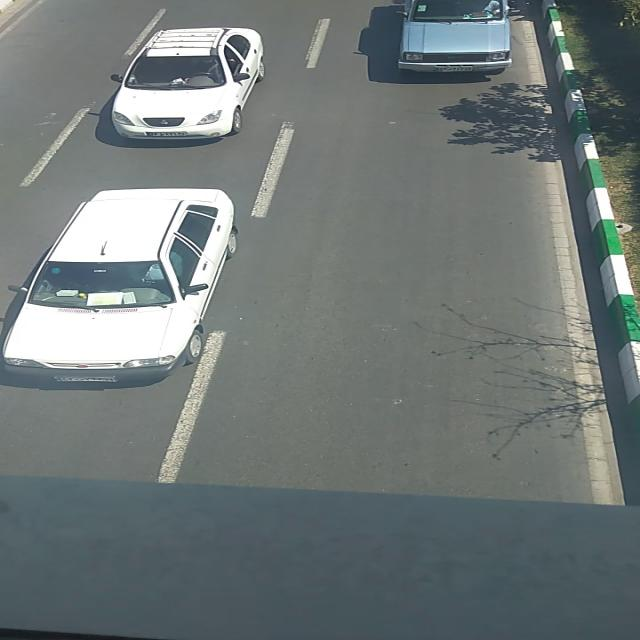car: (5, 188, 239, 388), (109, 26, 267, 142), (396, 1, 512, 73)
